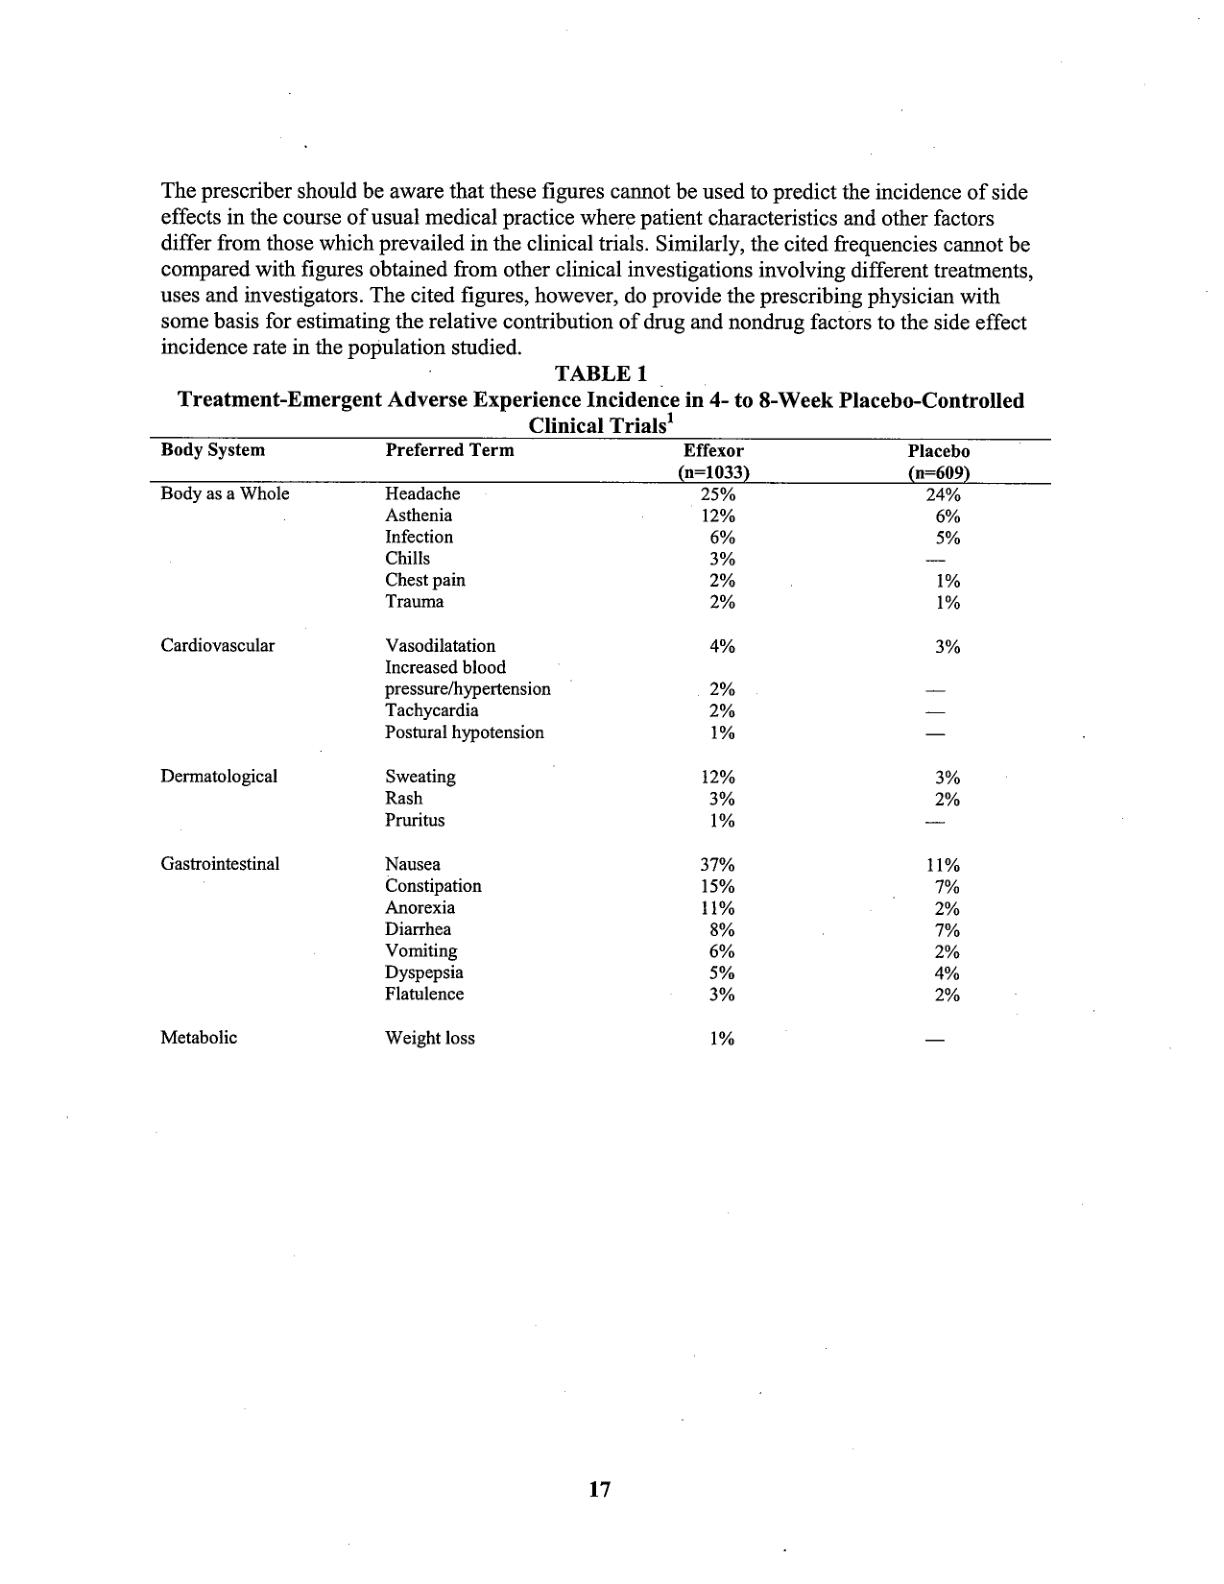partial_lined: (147, 436, 1053, 1063)
